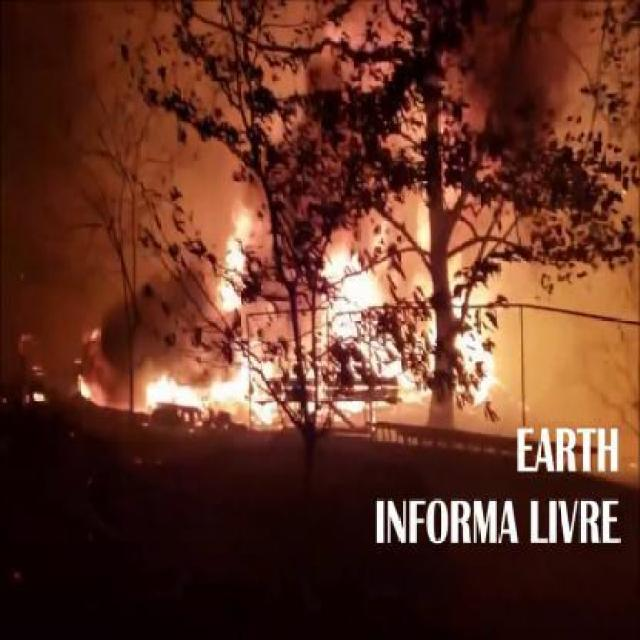Fire: (319, 264, 493, 422), (454, 285, 503, 410), (134, 372, 278, 408), (315, 248, 380, 308), (220, 200, 252, 311), (419, 192, 430, 252), (72, 371, 92, 402), (252, 410, 280, 430), (232, 348, 250, 370)
